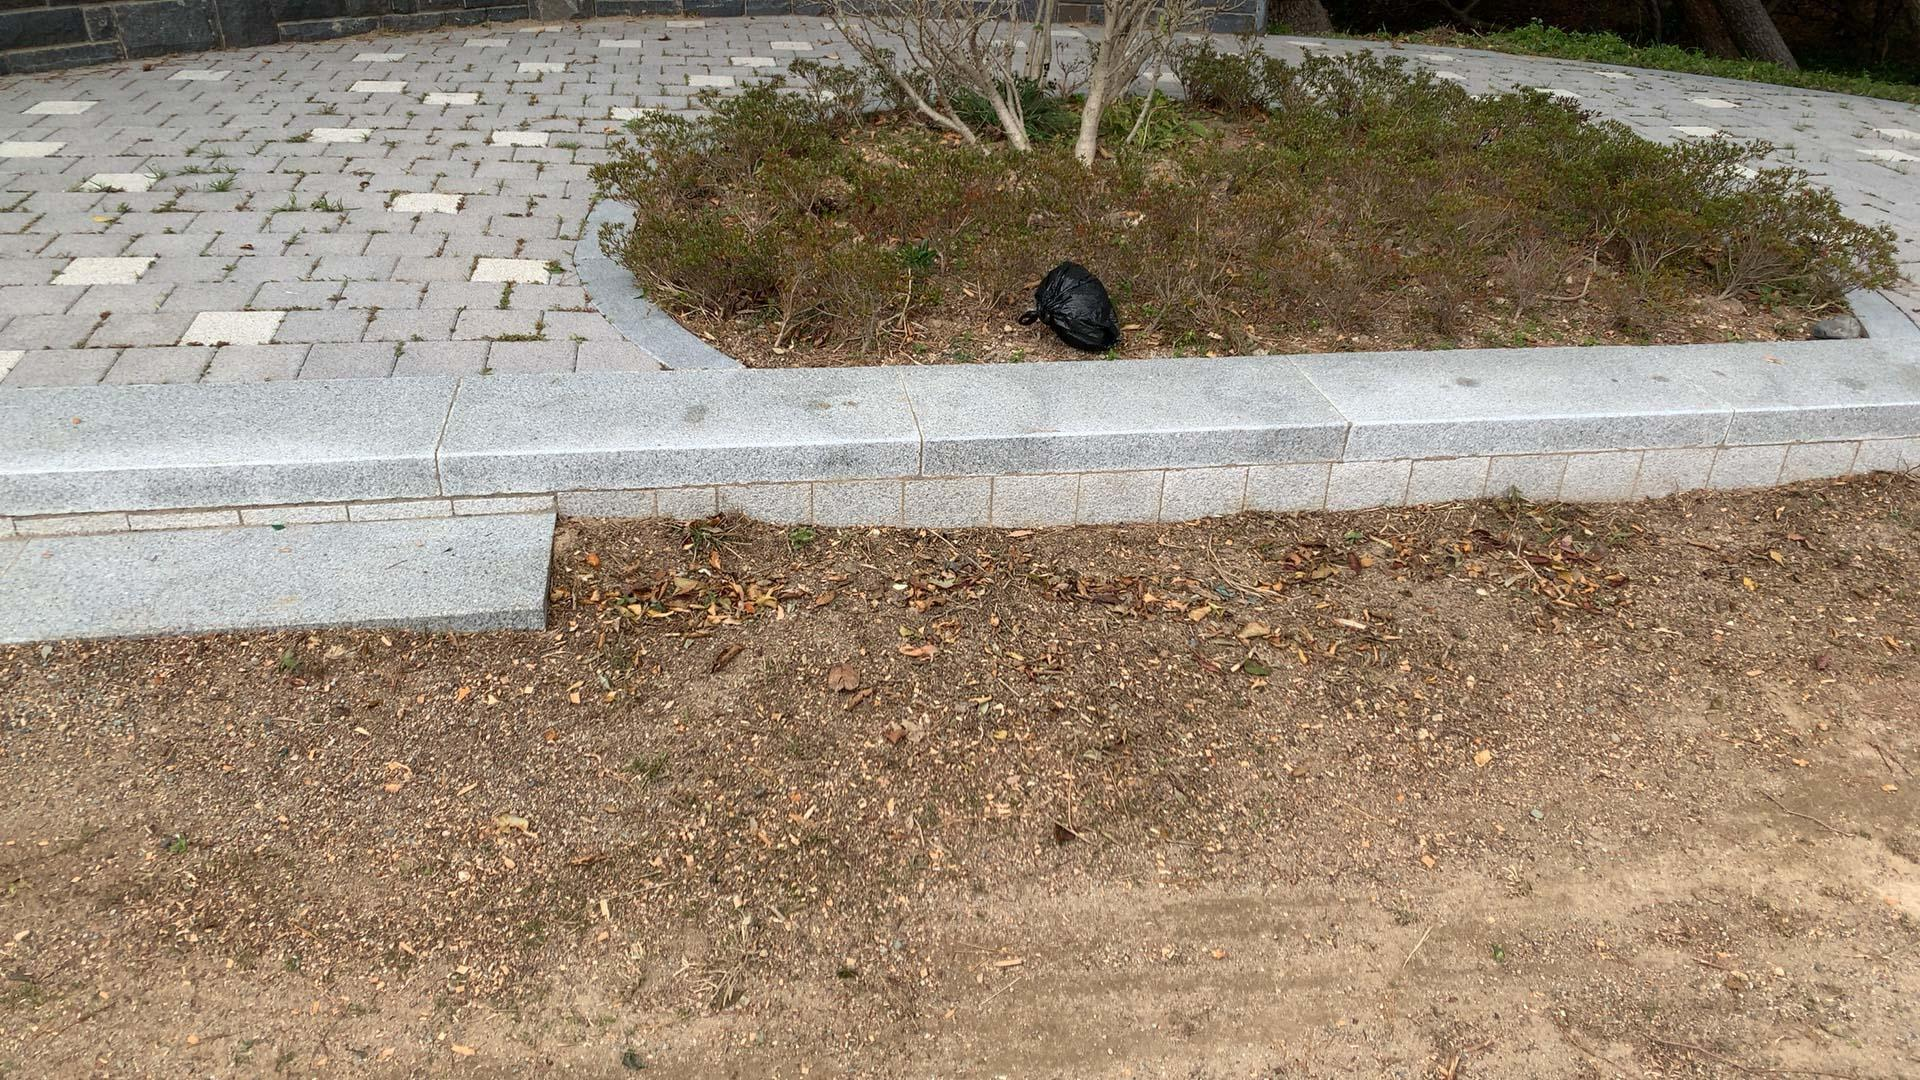black_bag: (1009, 251, 1124, 364)
